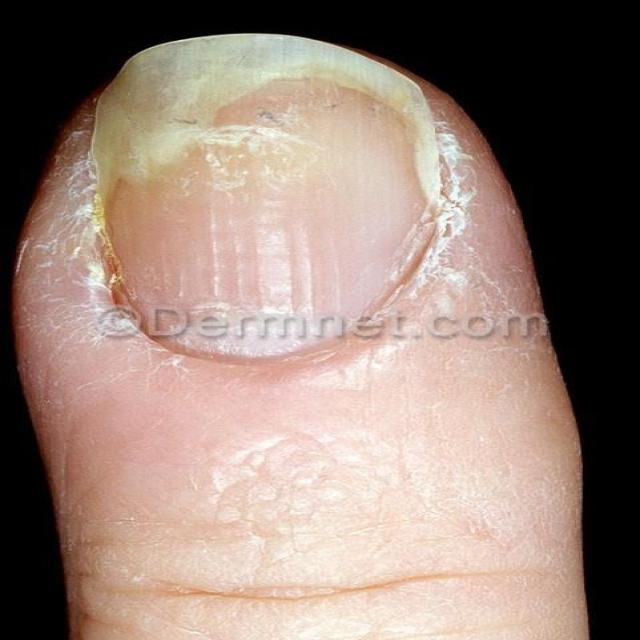Nail: (91, 32, 465, 366)
